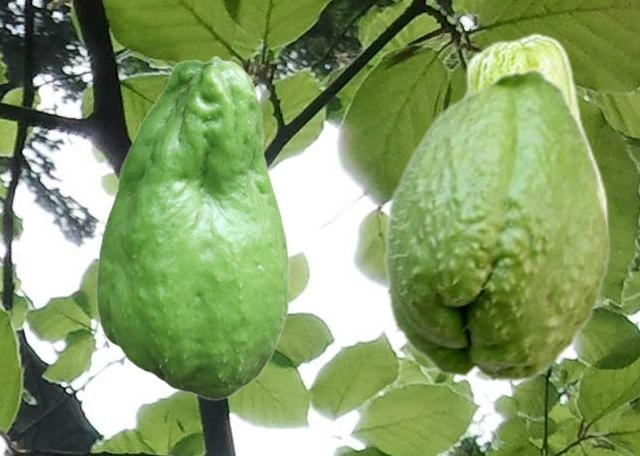sayote: (383, 66, 611, 383), (95, 55, 289, 399), (459, 32, 607, 205)
